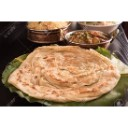parota: (10, 44, 121, 102)
